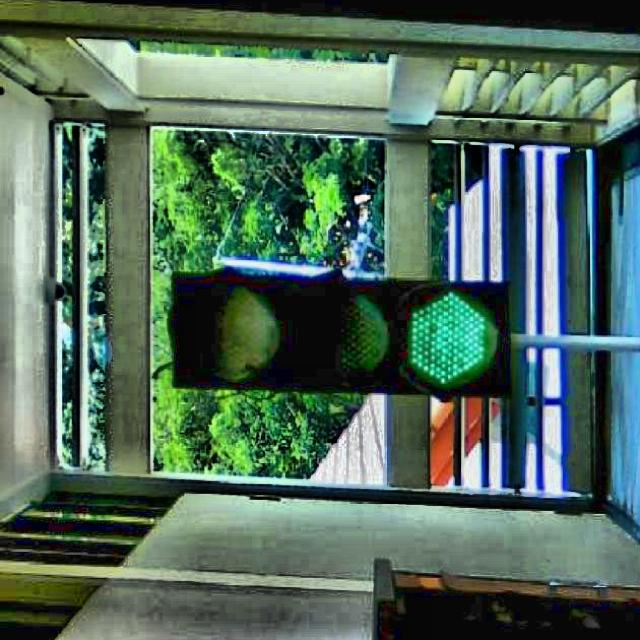green: (167, 274, 520, 405)
